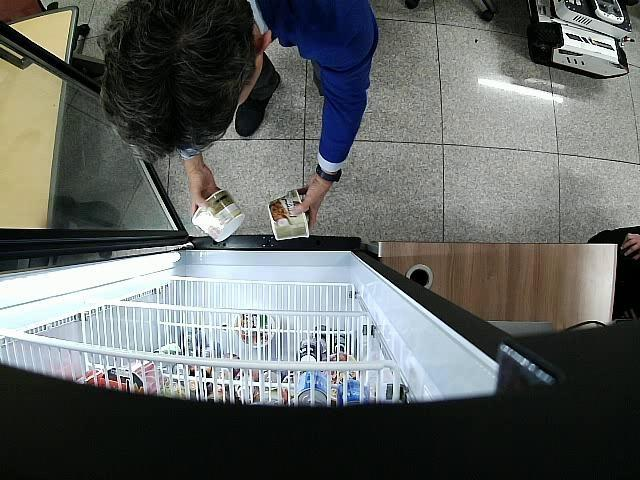03_chapagetti_L: (192, 190, 245, 242), (268, 190, 310, 240)
